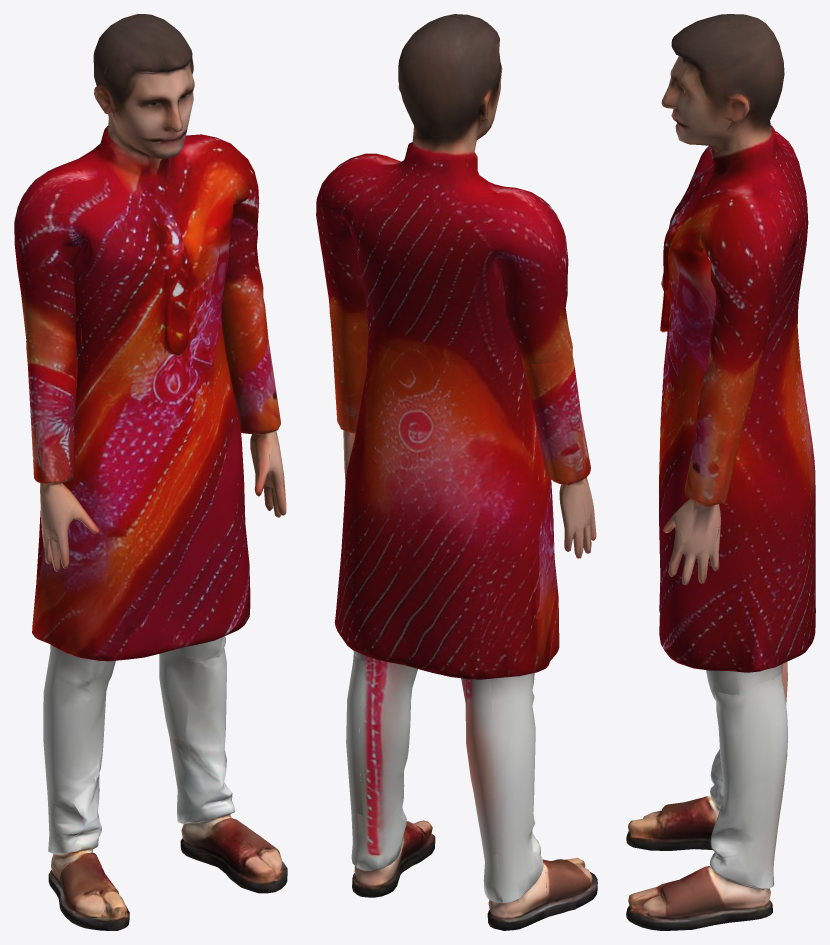
Rendered from sf_man_kurta_red.glb.
3 views of the same model, side by side, from view 1: azimuth 30°, elevation 25°; view 2: azimuth 150°, elevation 25°; view 3: azimuth 270°, elevation 25° (orthographic). The views are drawn at different scales.
Parts seen in each view (by area): view 1: sf_man_kurta_red; view 2: sf_man_kurta_red; view 3: sf_man_kurta_red.
Part boxes in pixels (left/top/right/bottom): sf_man_kurta_red: left=14, top=14, right=287, bottom=930; sf_man_kurta_red: left=316, top=14, right=597, bottom=930; sf_man_kurta_red: left=626, top=14, right=815, bottom=930.
Size of the model in its own units: 0.4989 by 1.68 by 0.3352.
1 material, 1 textured.
